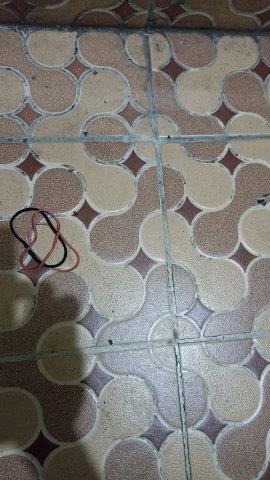karet: (10, 207, 80, 273)
